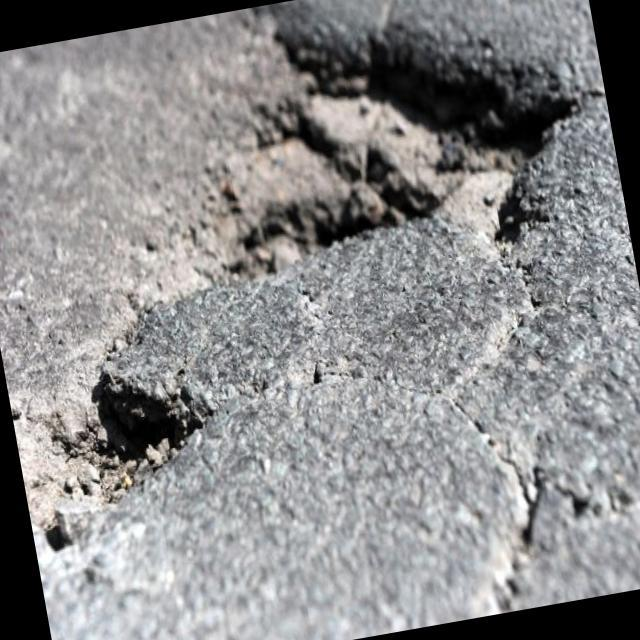Pothole: (85, 0, 593, 308), (8, 355, 234, 564)
